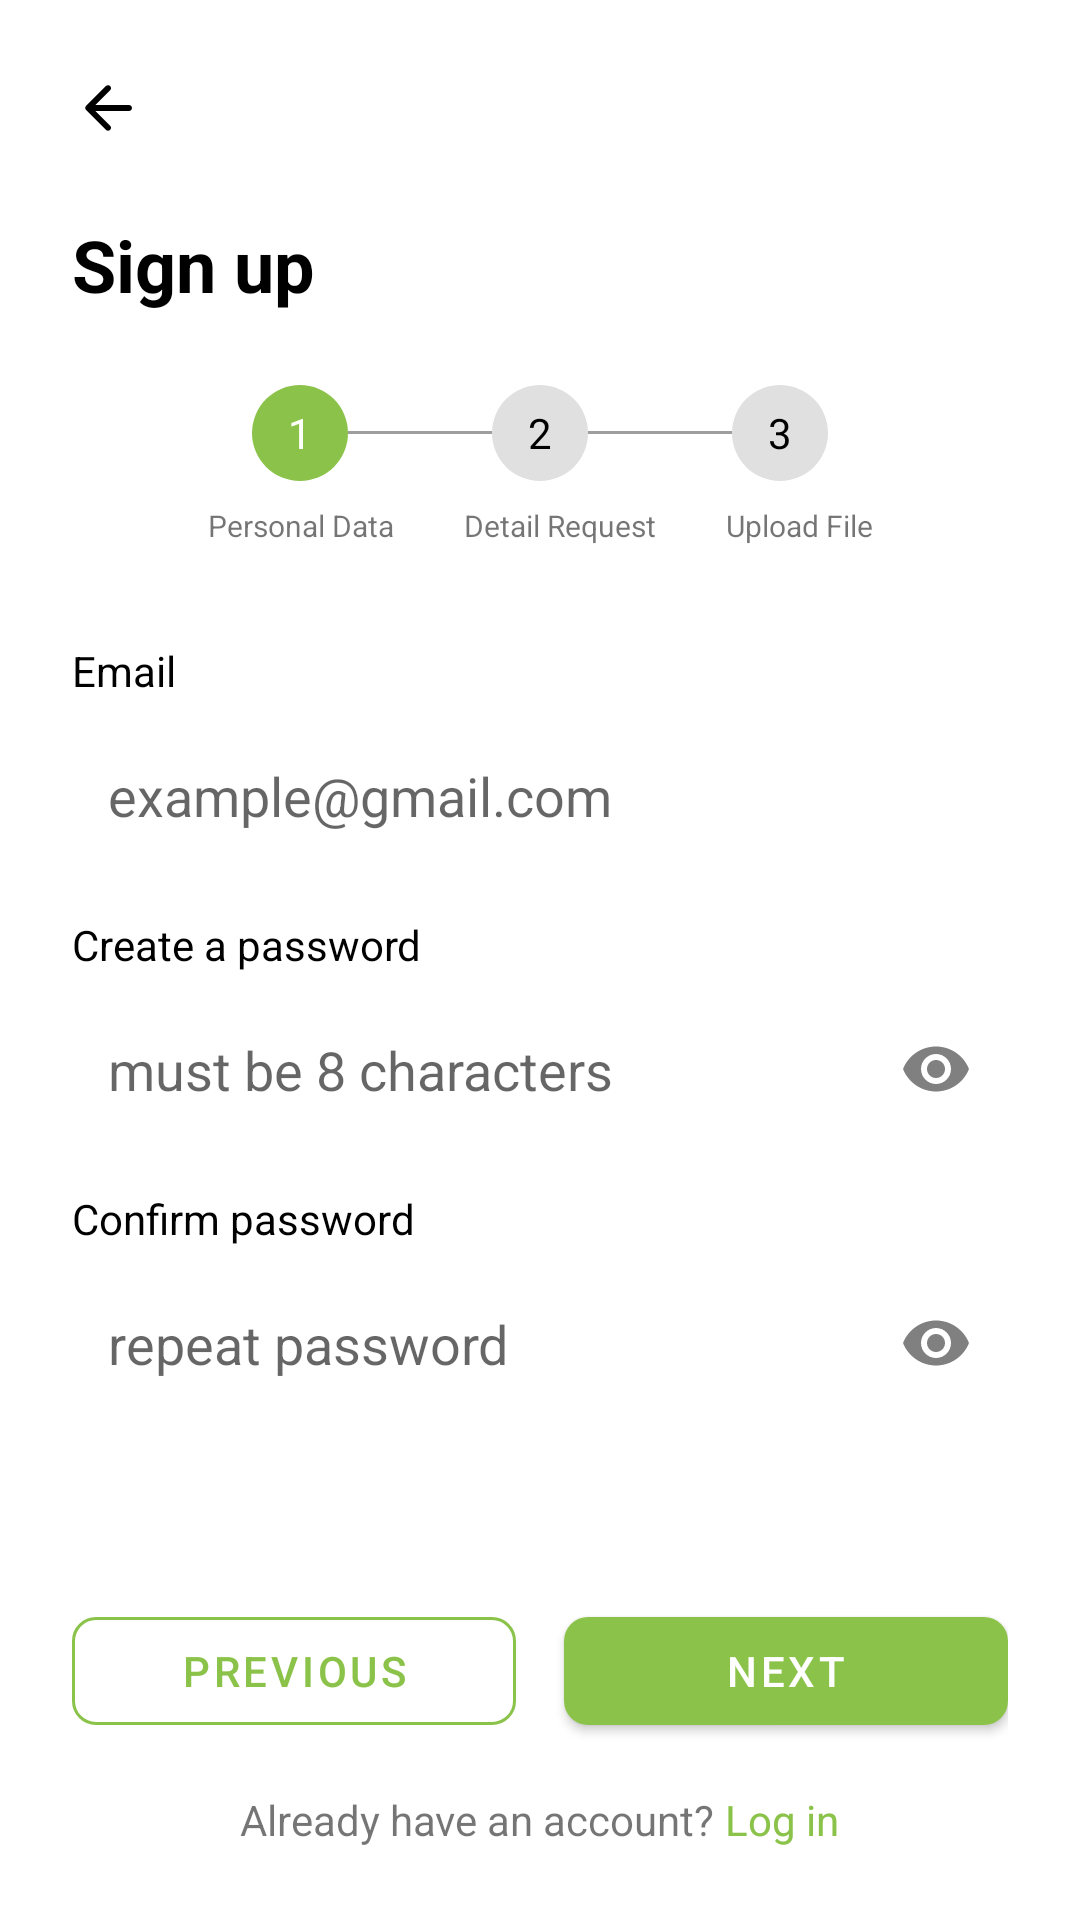

Icon bounding boxes for this 1080 × 1920 phone screenshot, format (left=x1, top=y1, right=x2, bottom=y2):
Back button: (left=85, top=85, right=132, bottom=131)
Toggle password visibility: (left=903, top=1046, right=969, bottom=1092), (left=903, top=1320, right=969, bottom=1366)
